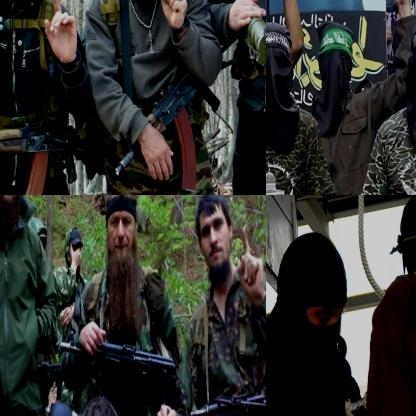rifle: (113, 64, 222, 194), (53, 332, 179, 415), (0, 117, 109, 194)
